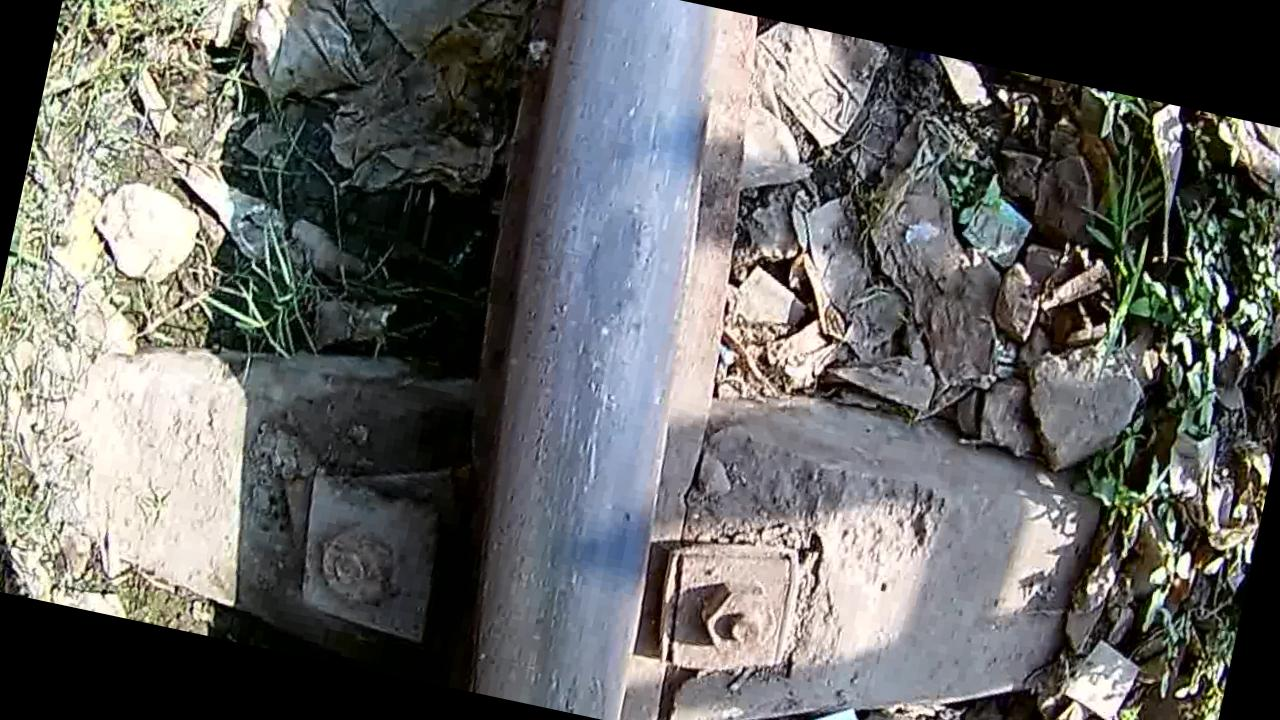bolt_missing: (497, 136, 715, 415)
